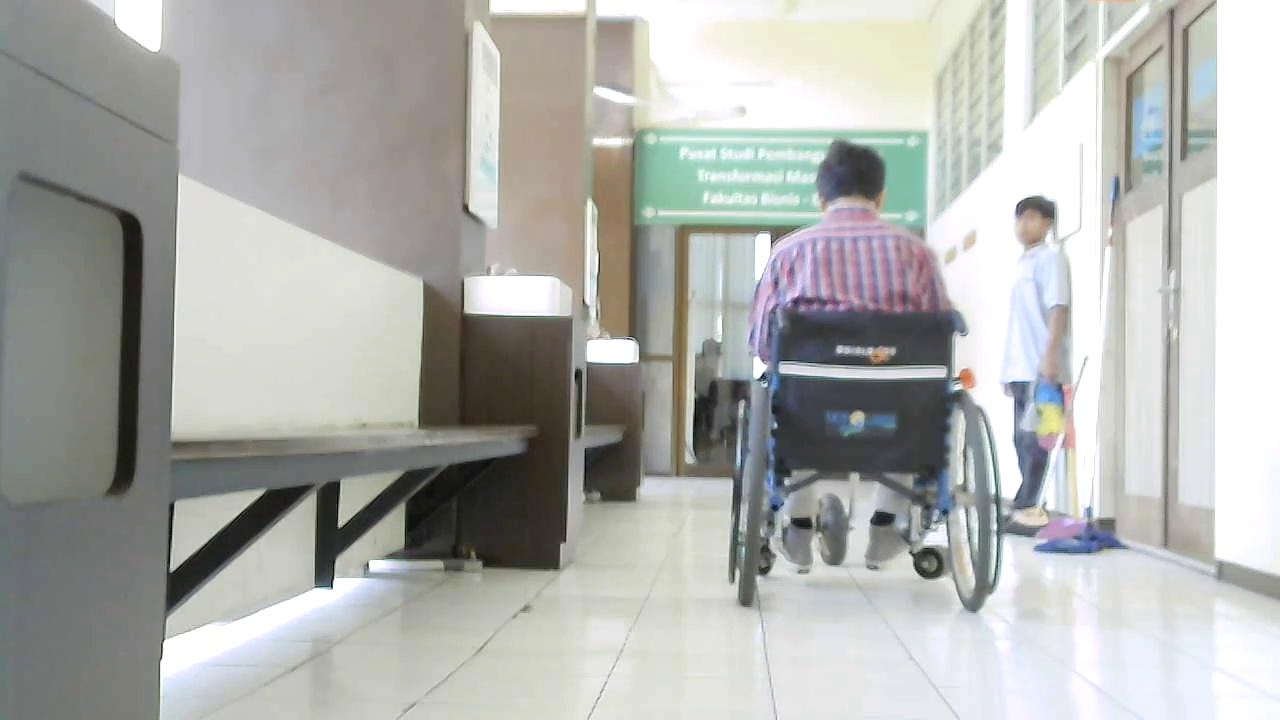person: (997, 195, 1074, 532)
wheelchair: (715, 282, 1022, 627)
